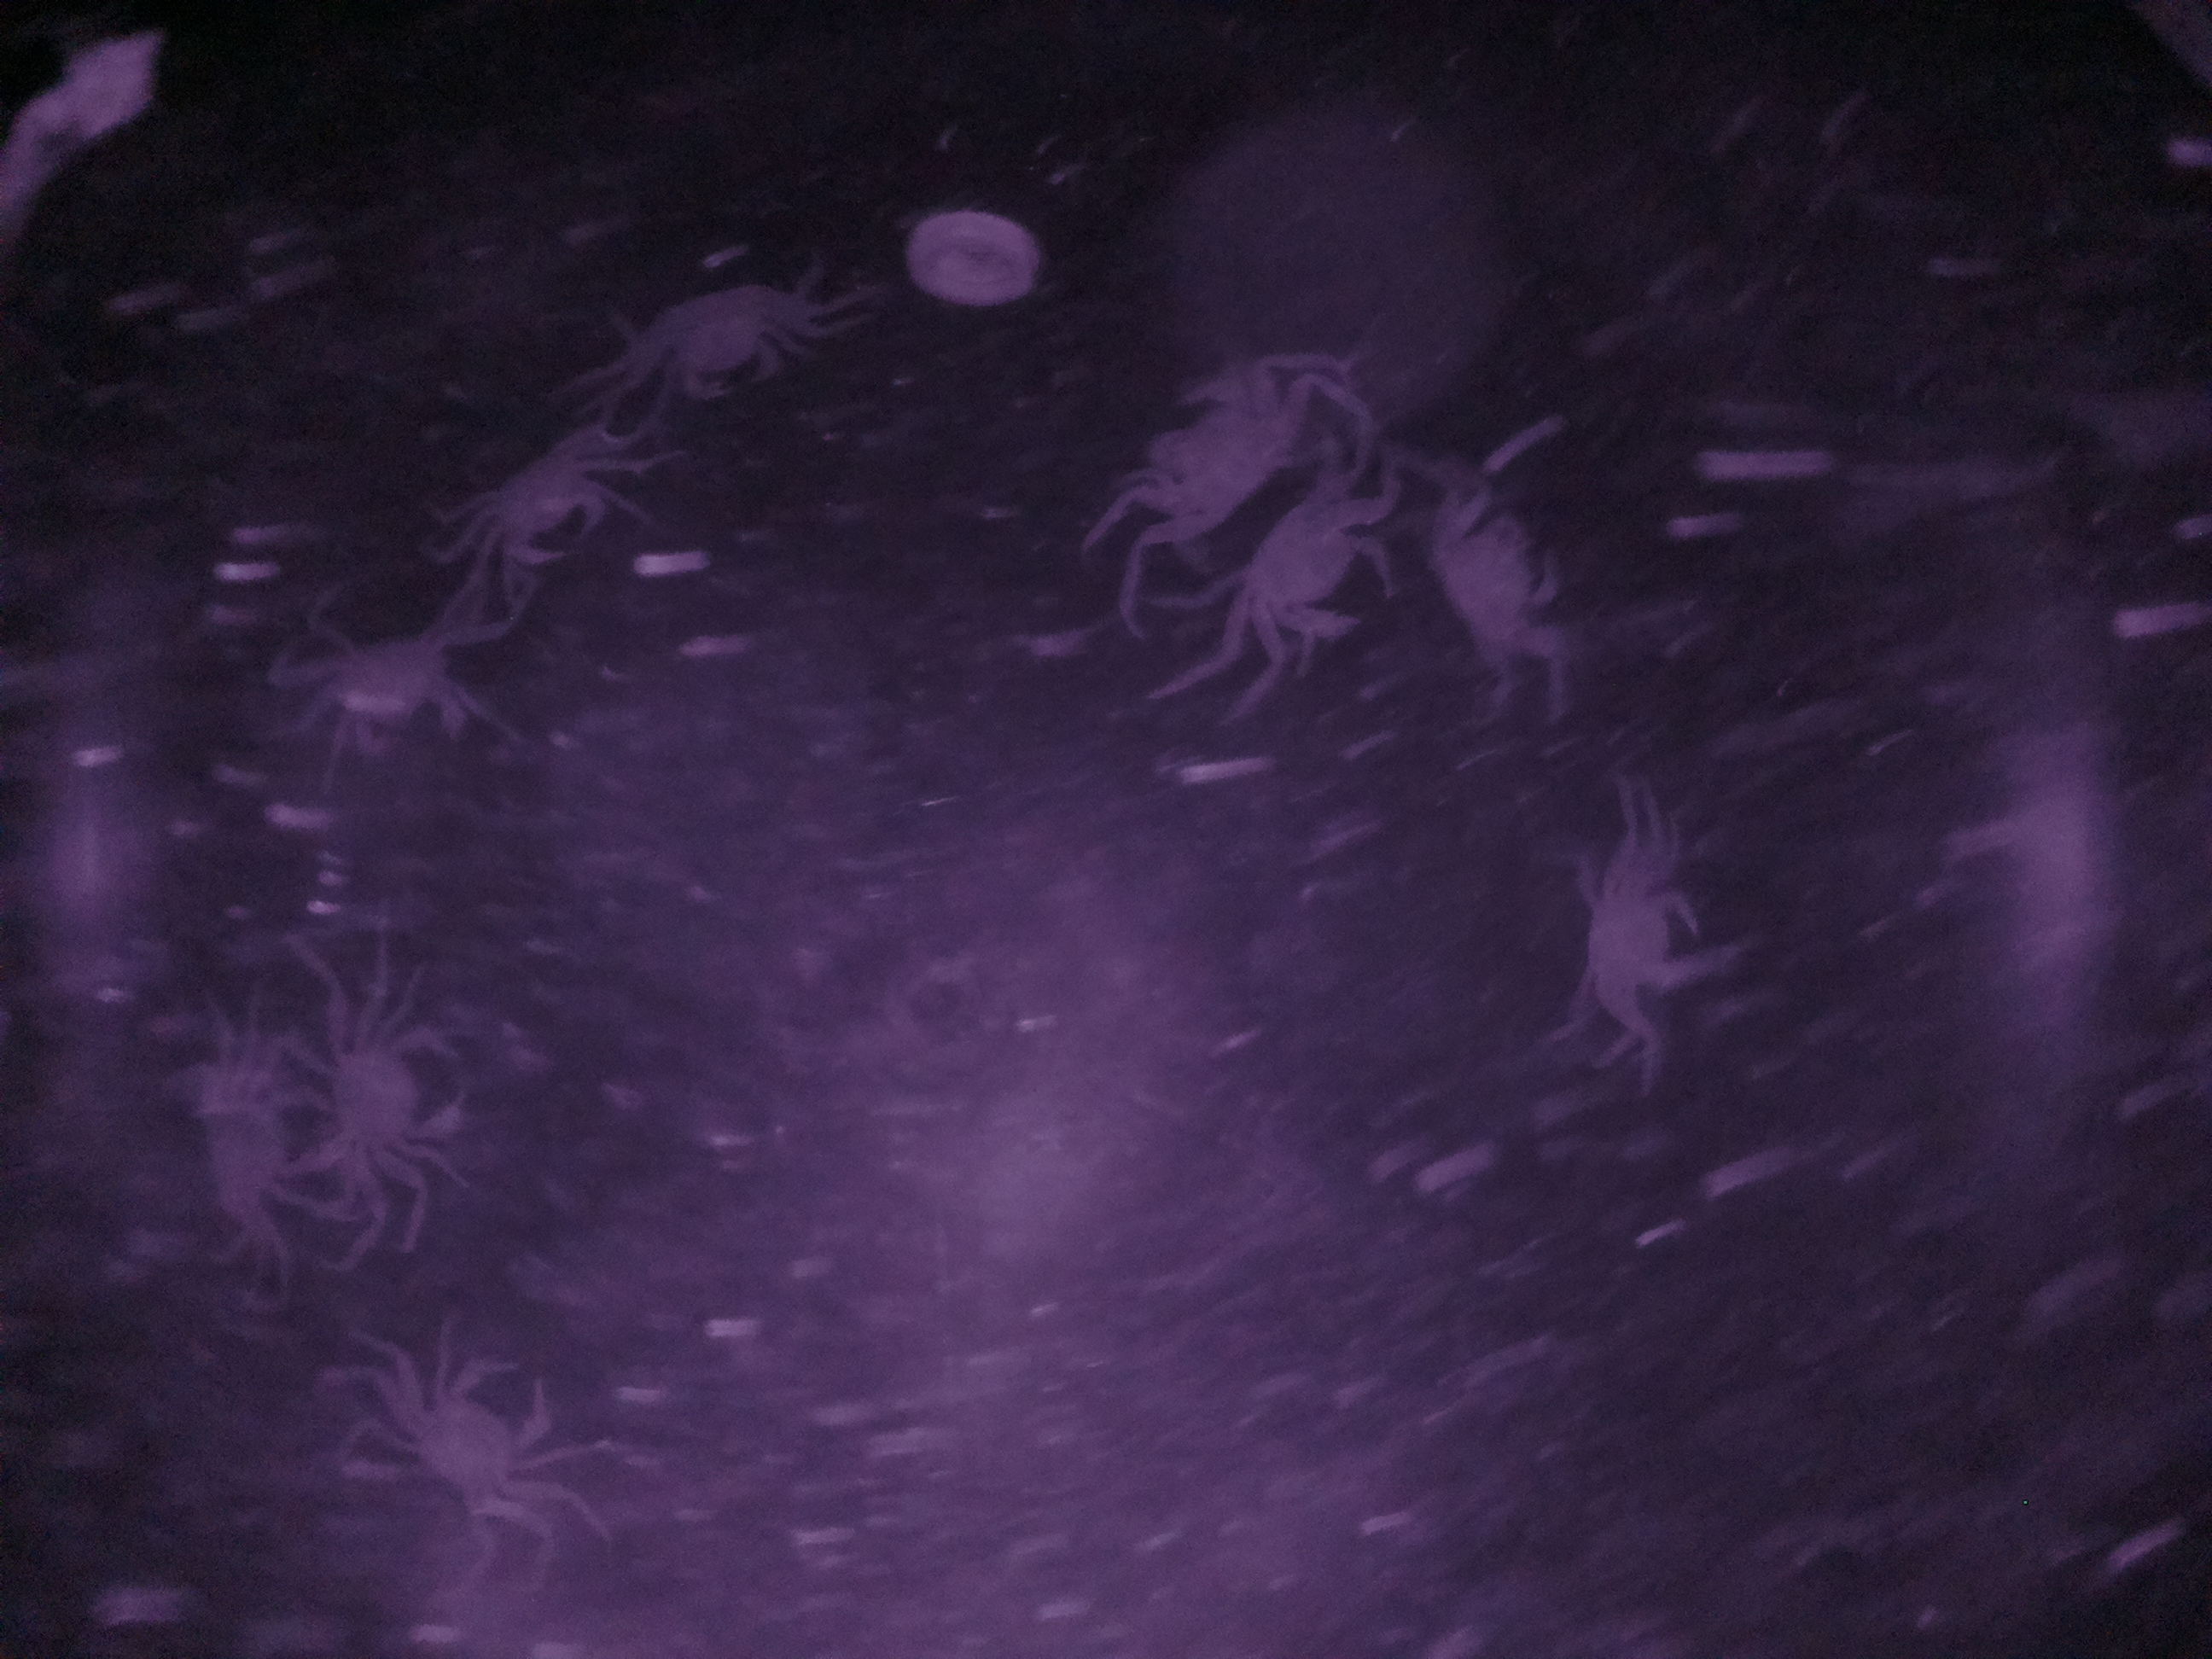Crab: (1205, 451, 1423, 683), (378, 1312, 566, 1551), (298, 995, 503, 1206), (613, 272, 869, 415), (470, 415, 615, 598)
